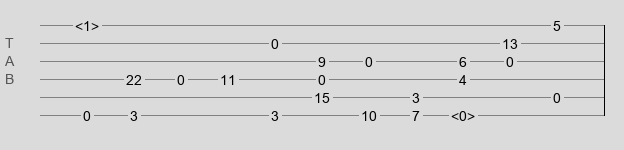0: (83, 108, 91, 118), (177, 72, 185, 82), (271, 36, 279, 46), (318, 72, 326, 82), (365, 54, 373, 64), (506, 54, 514, 64), (553, 90, 561, 100)
10: (361, 108, 377, 118)
11: (220, 72, 236, 82)
13: (502, 36, 518, 46)
15: (314, 90, 330, 100)
22: (126, 72, 142, 82)
3: (130, 108, 138, 118), (271, 108, 279, 118), (412, 90, 420, 100)
4: (459, 72, 467, 82)
5: (553, 18, 561, 28)
6: (459, 54, 467, 64)
7: (412, 108, 420, 118)
9: (318, 54, 326, 64)
harmonic: (75, 18, 99, 28), (451, 108, 475, 118)
